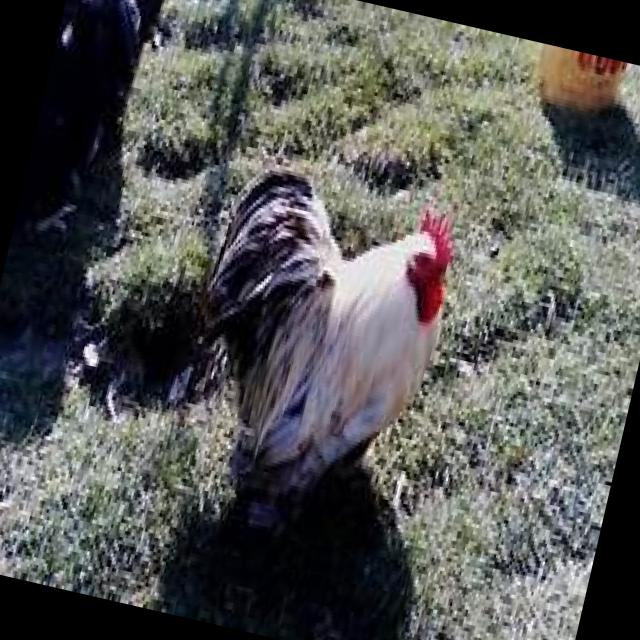animal: (154, 150, 472, 552)
